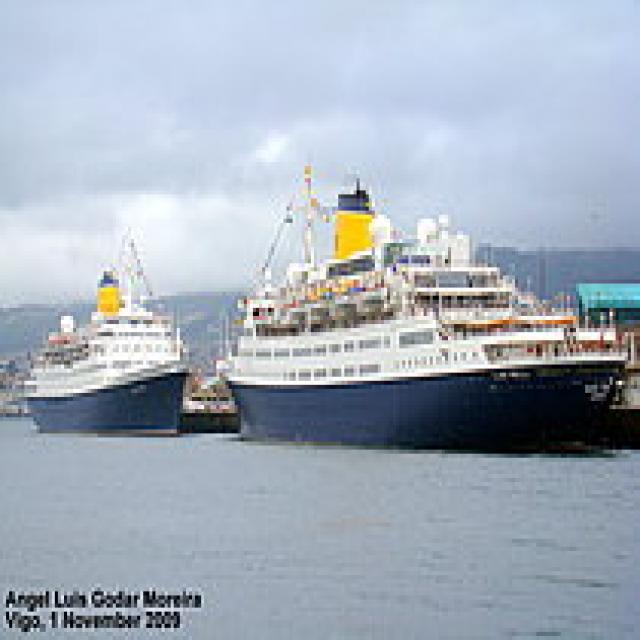Ship: (217, 163, 632, 479), (19, 228, 199, 451)
